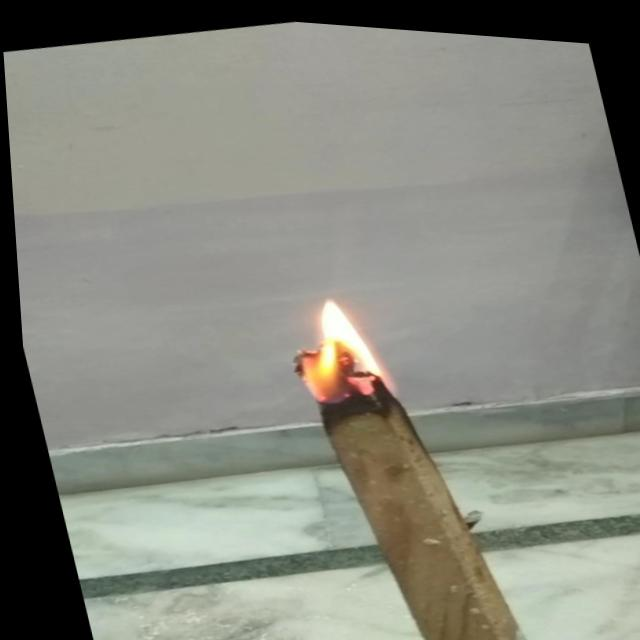fire: (262, 273, 409, 417)
